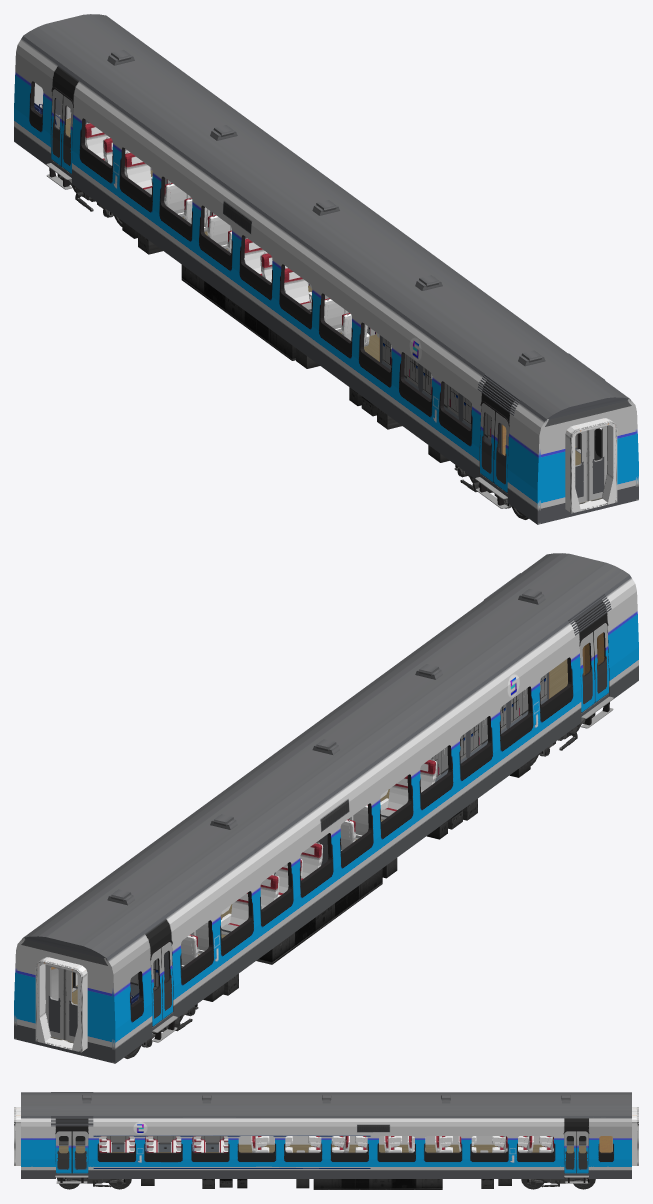
Rendered from nsicmcarriage_first.obj.
3 views of the same model, one above another, from view 1: azimuth 30°, elevation 25°; view 2: azimuth 150°, elevation 25°; view 3: azimuth 270°, elevation 25° (orthographic). The views are drawn at different scales.
Parts seen in each view (by area): view 1: side, jibung, backout, chair_first, habu, mak, jibungparts, canmagi, backdoor, door_RB, door_RF, sadari (+1 smaller); view 2: side, jibung, backout, chair_first, habu, canmagi, mak, jibungparts, backdoor, door_RF, door_RB, sadari (+3 smaller); view 3: side, jibung, chair_first, habu, badak, DT71, tongilchair, door_LB, door_LF, jibungparts, inside, mak (+5 smaller).
Part boxes in pixels (box(x1,y1,x2,y2)): side: box(14, 21, 638, 524); jibung: box(23, 14, 628, 418); backout: box(541, 397, 635, 523); chair_first: box(85, 122, 379, 346); habu: box(122, 221, 449, 462); mak: box(66, 118, 617, 513); jibungparts: box(107, 50, 605, 415); canmagi: box(85, 120, 501, 453); backdoor: box(55, 98, 606, 503); door_RB: box(51, 89, 495, 483); door_RF: box(61, 95, 508, 493); sadari: box(46, 87, 595, 508); side: box(14, 560, 638, 1063); jibung: box(24, 553, 629, 957); backout: box(17, 936, 111, 1062); chair_first: box(181, 759, 436, 967); habu: box(203, 760, 530, 1001); canmagi: box(130, 672, 549, 998); mak: box(35, 957, 87, 1052); jibungparts: box(107, 573, 611, 905); backdoor: box(46, 965, 77, 1042); door_RF: box(161, 623, 608, 1019); door_RB: box(151, 631, 594, 1026); sadari: box(72, 621, 613, 1042); side: box(21, 1116, 631, 1178); jibung: box(21, 1092, 631, 1115); chair_first: box(251, 1136, 553, 1152); habu: box(141, 1179, 511, 1189); badak: box(59, 1144, 586, 1153); DT71: box(57, 1177, 595, 1189); tongilchair: box(99, 1136, 228, 1152); door_LB: box(72, 1131, 588, 1173); door_LF: box(56, 1131, 576, 1173); jibungparts: box(51, 1092, 570, 1126); inside: box(238, 1136, 541, 1144); mak: box(14, 1107, 638, 1165).
Bounding box in the file's own units: 3.17 × 3.95 × 26.09.
26 materials, 26 textured.
